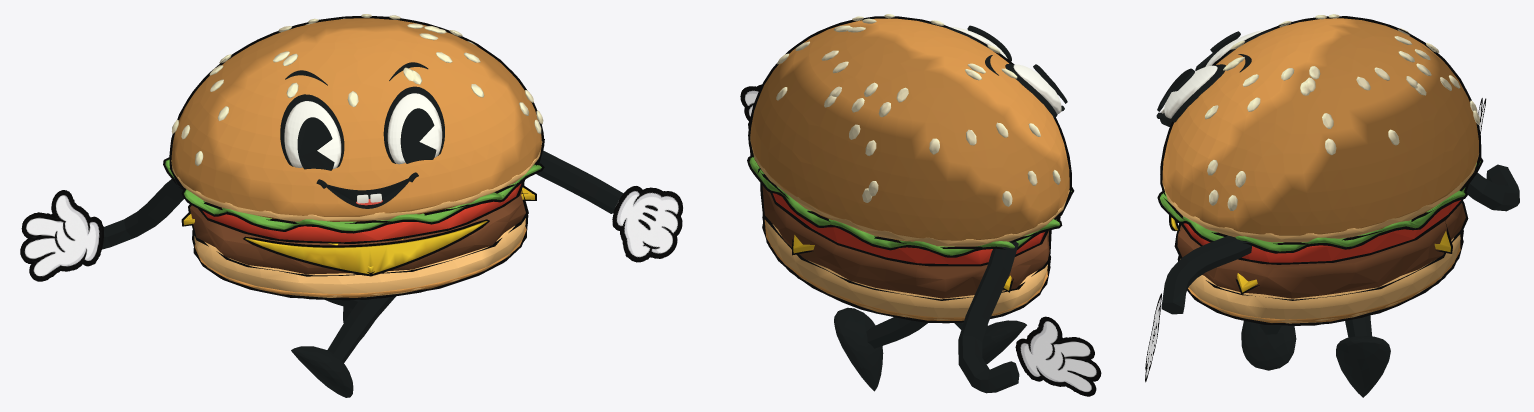
The model's file is burger.glb.
3 renders of one model, left to right at view 1: azimuth 30°, elevation 25°; view 2: azimuth 150°, elevation 25°; view 3: azimuth 270°, elevation 25°, orthographic. The views are drawn at different scales.
Parts seen in each view (by area): view 1: Burger_body, Burger_gloves, Burger_outline; view 2: Burger_body, Burger_outline, Burger_gloves; view 3: Burger_body, Burger_outline, Burger_gloves.
Part boxes in pixels (<box>): Burger_body: <box>102,14,623,397</box>; Burger_gloves: <box>20,186,682,281</box>; Burger_outline: <box>163,16,544,300</box>; Burger_body: <box>749,14,1071,393</box>; Burger_outline: <box>747,16,1074,323</box>; Burger_gloves: <box>740,84,1101,396</box>; Burger_body: <box>1156,14,1519,397</box>; Burger_outline: <box>1157,16,1483,325</box>; Burger_gloves: <box>1145,98,1486,382</box>.
Bounding box in the file's own units: 1.8 × 1.09 × 1.06.
3 materials, 1 textured.
